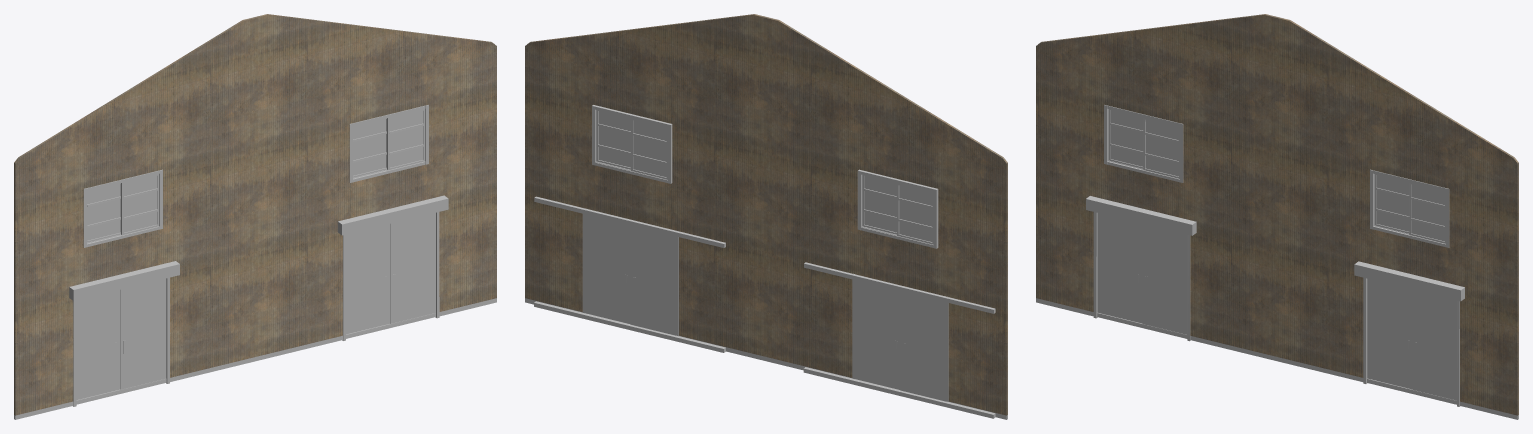
The model's file is Factory_Small_02a.fbx.
3 renders of one model, left to right at view 1: azimuth 30°, elevation 25°; view 2: azimuth 150°, elevation 25°; view 3: azimuth 330°, elevation 25°, orthographic.
Visible parts, largest first — view 1: Factory_Small_02a; view 2: Factory_Small_02a; view 3: Factory_Small_02a.
Boxes of the visible parts, x1=… form: Factory_Small_02a: x1=14, y1=14, x2=496, y2=419; Factory_Small_02a: x1=525, y1=14, x2=1007, y2=419; Factory_Small_02a: x1=1036, y1=14, x2=1518, y2=419.
Size of the model in its own units: 11.6 by 7.92 by 0.3125.
